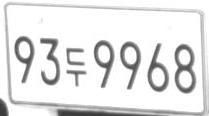3: (38, 37, 60, 86)
6: (146, 42, 169, 92)
8: (174, 43, 196, 94)
9: (119, 40, 141, 90), (93, 39, 115, 88), (13, 35, 35, 83)
두: (65, 48, 86, 87)
